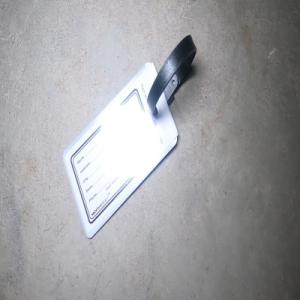LuggageTag: (61, 31, 197, 241)
